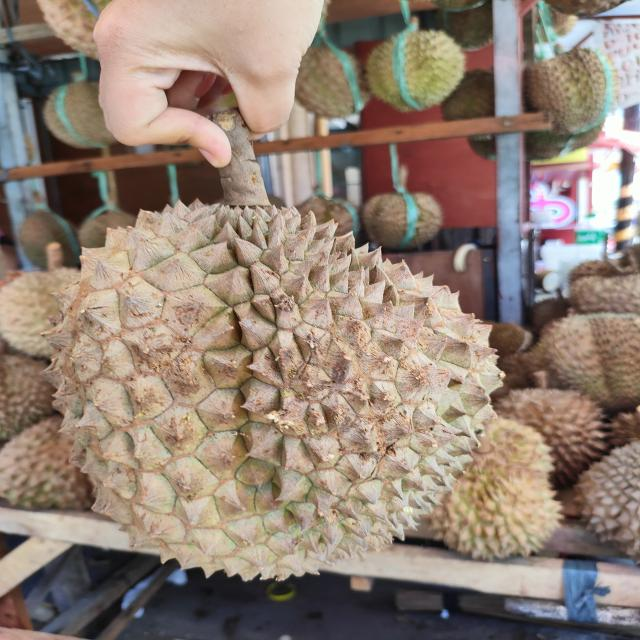mature: (42, 200, 502, 586)
